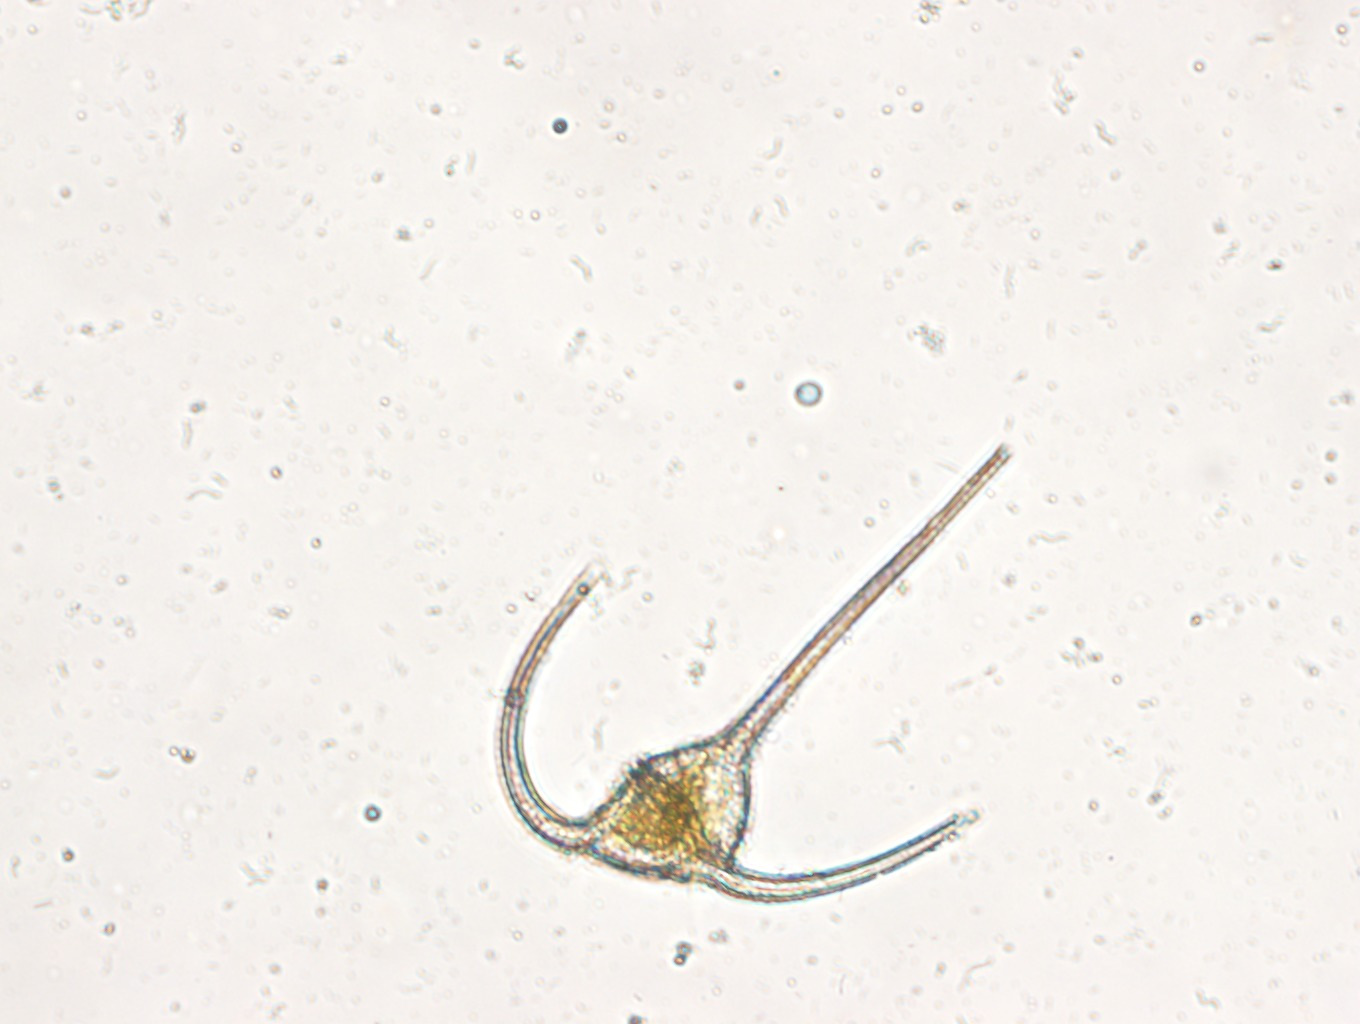ceratium trichoceros: (485, 431, 1016, 908)
